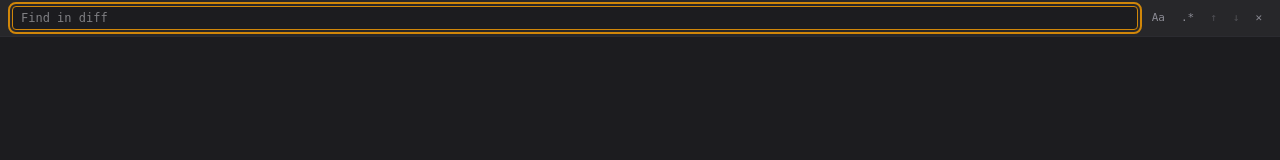
Scenario: FindBar › steps forward on Enter and wraps backwards on Shift+Enter
The width and height of the screenshot is (1280, 160).
Type "beta" into the field labelled "Find in diff" at (575, 18), box [12,6,1138,30]
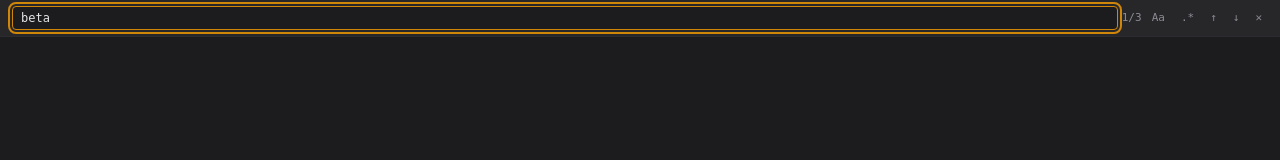
Press Enter in the field named "Find in diff", box [12,6,1118,30]
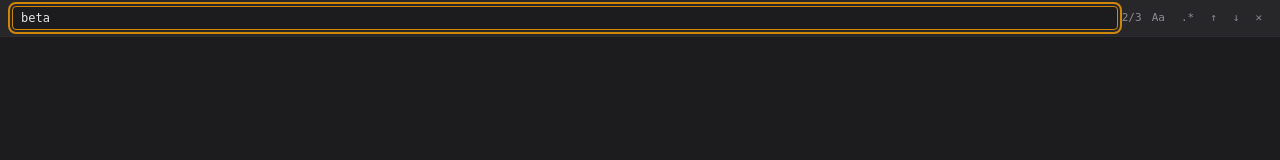
Now the text "2/3" is shown, box [1122,10,1142,26]
Press Enter in the field named "Find in diff", box [12,6,1118,30]
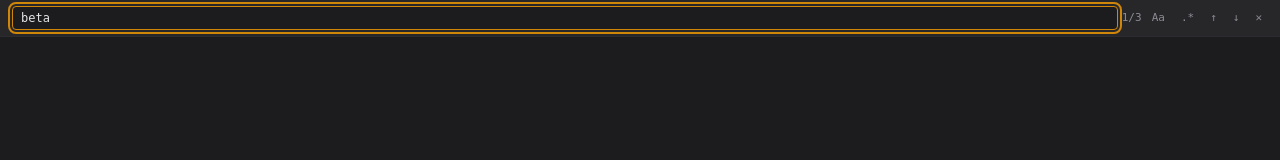
Press Enter in the field named "Find in diff", box [12,6,1118,30]
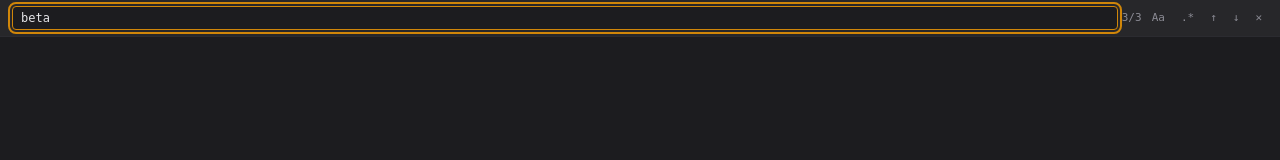
Now the text "3/3" is shown, box [1122,10,1142,26]
